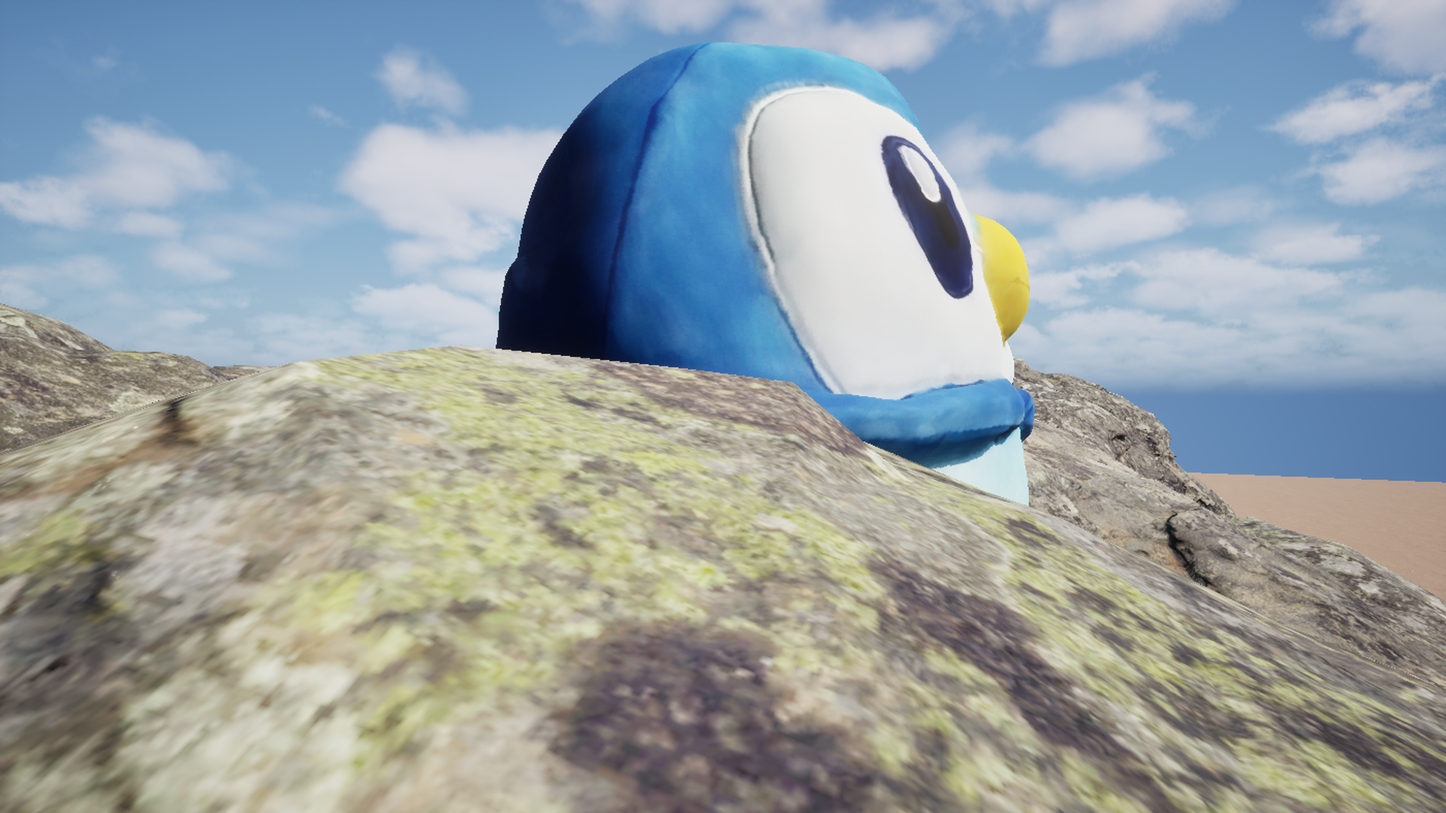Piplup: (204, 0, 1073, 813)
